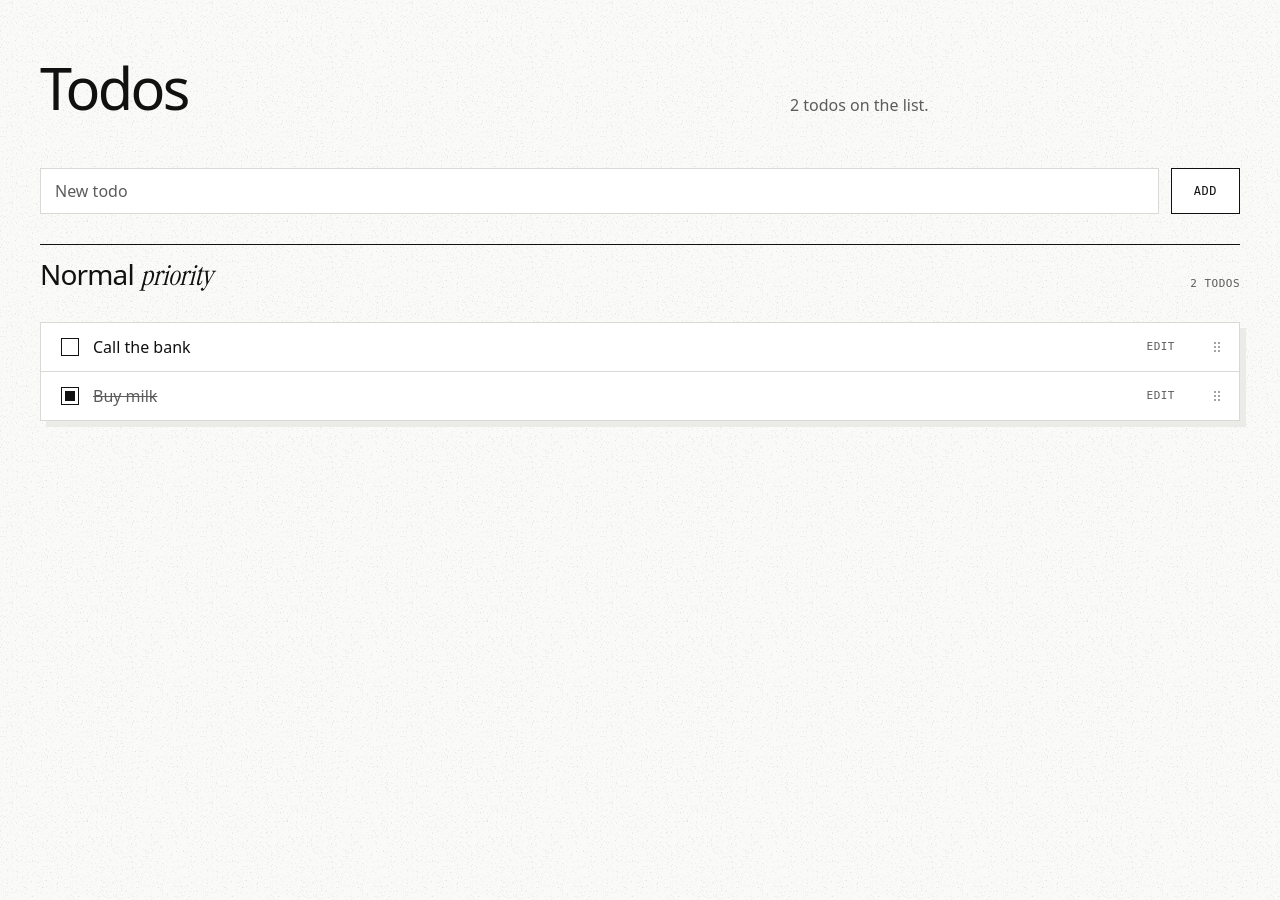
Test: closes the editor on Cancel or Escape, with no request
The width and height of the screenshot is (1280, 900).
Click the button with aria-label "Edit Buy milk". click: click(1161, 396)
box: [1126, 372, 1195, 420]
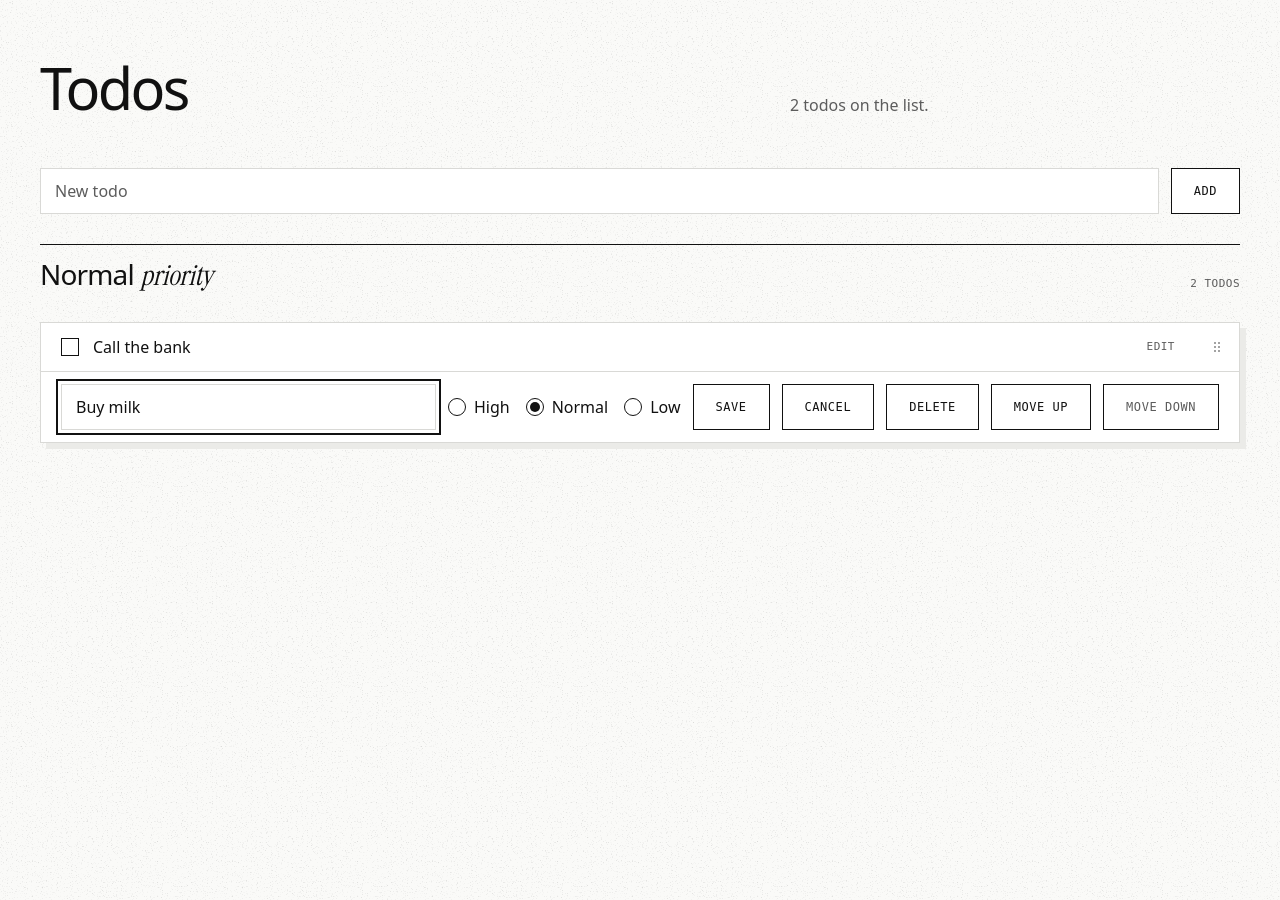
Click the button "Cancel". click: click(828, 408)
box: [782, 384, 874, 430]
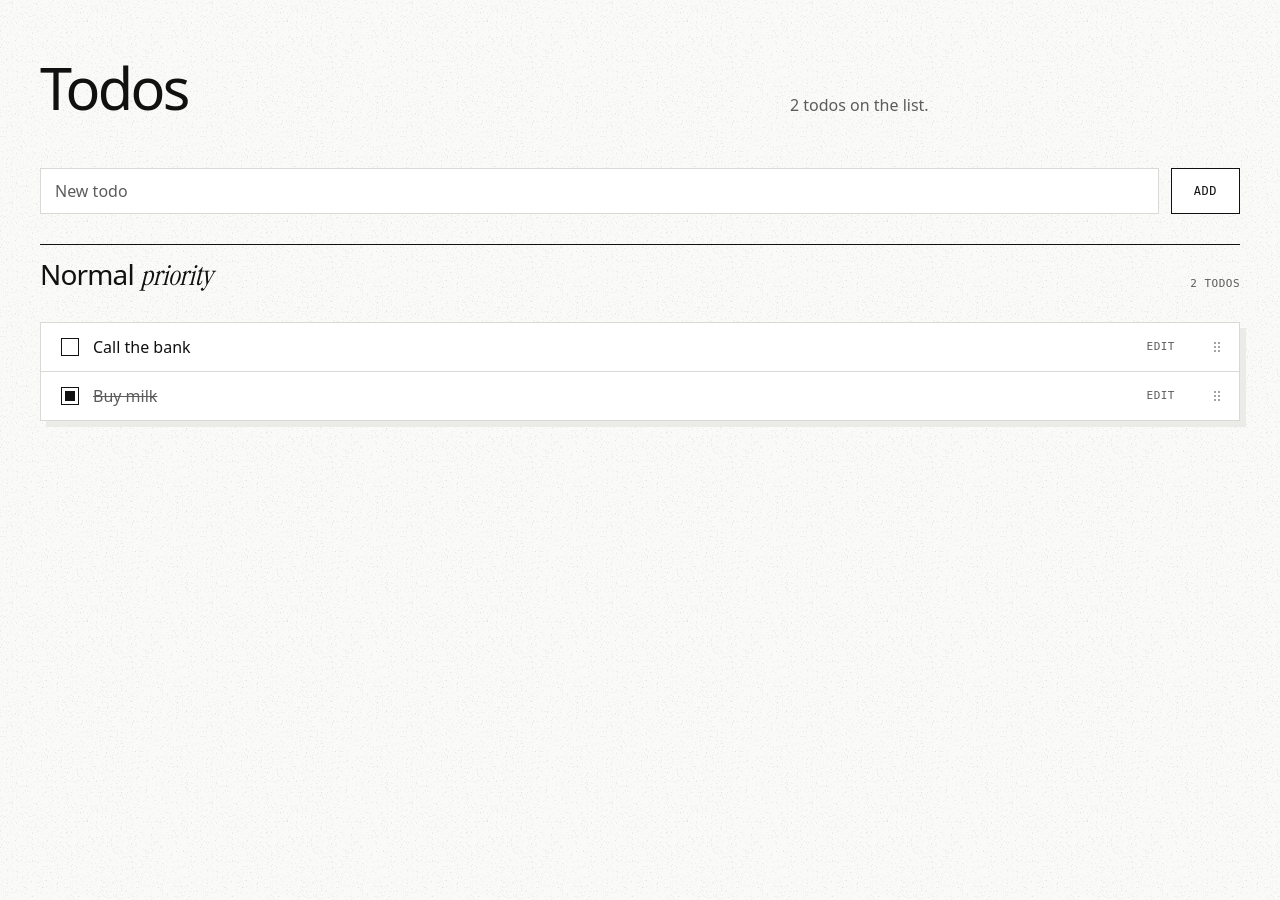
Click the button with aria-label "Edit Buy milk". click: click(1161, 396)
box: [1126, 372, 1195, 420]
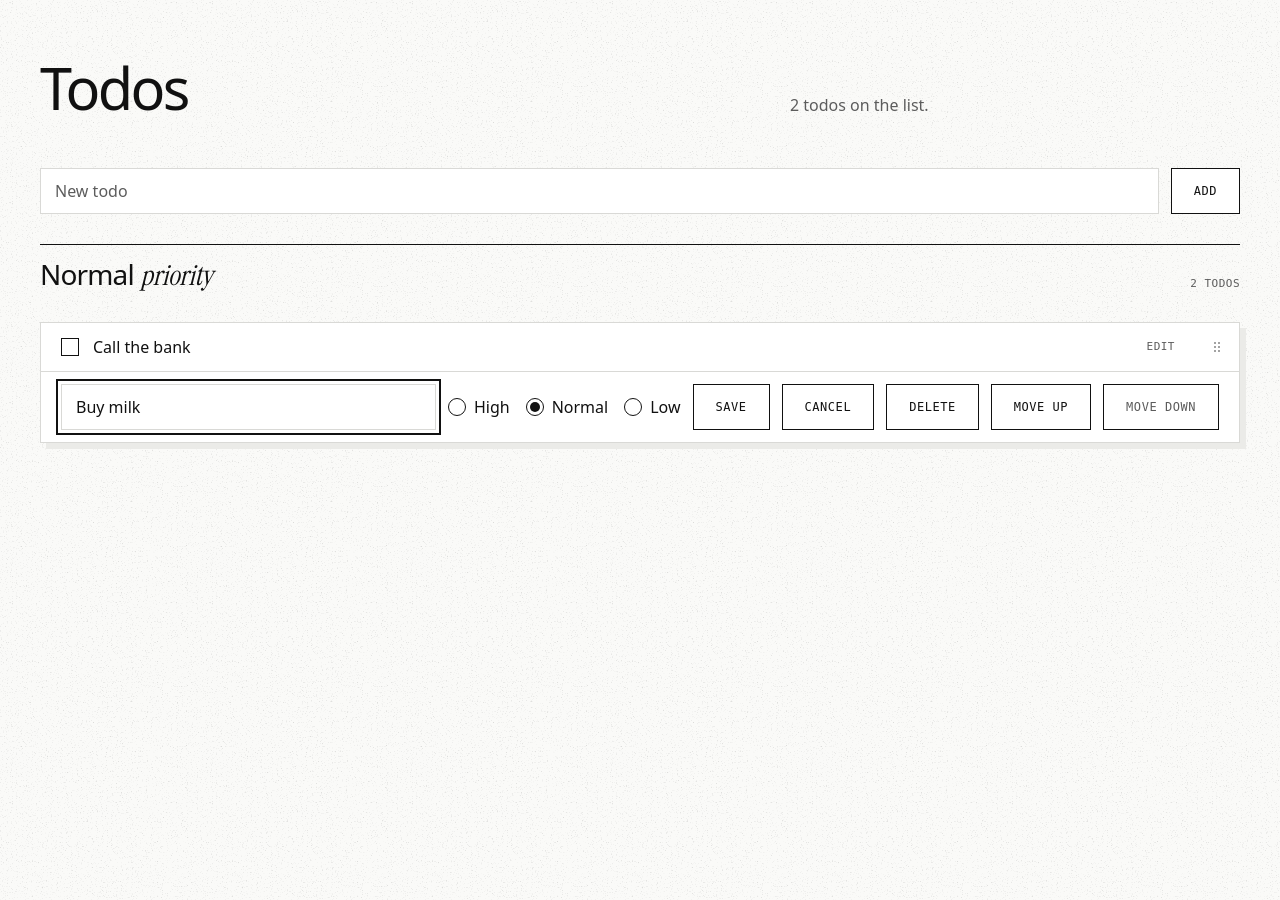
Press Escape in the field named "Title", box [61, 384, 436, 430]
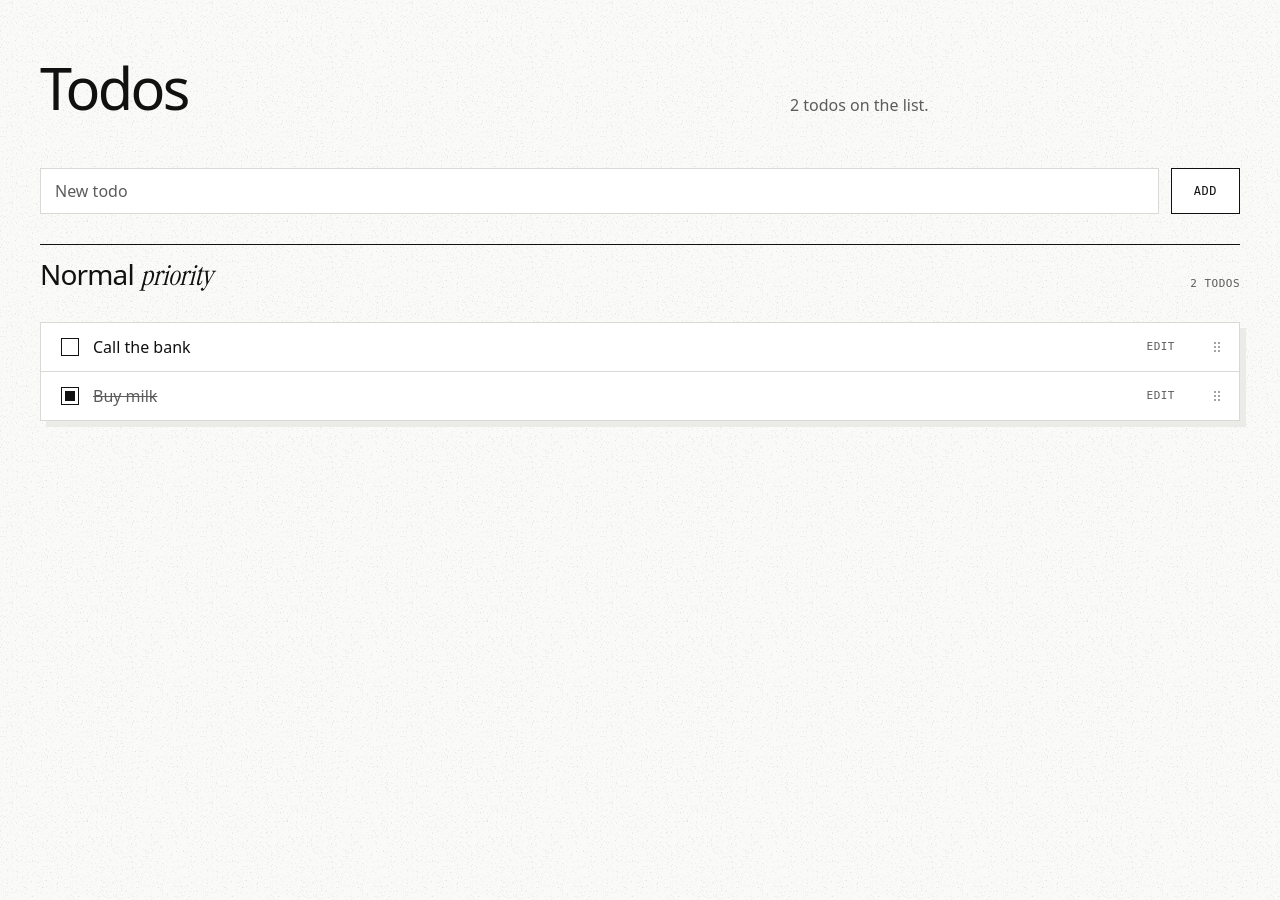
Result: the checkbox labelled "Buy milk" is checked at [61, 388, 79, 406]
